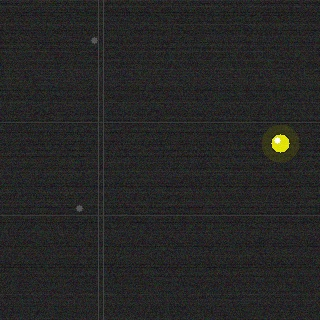yellow_warning: (269, 132, 291, 154)
